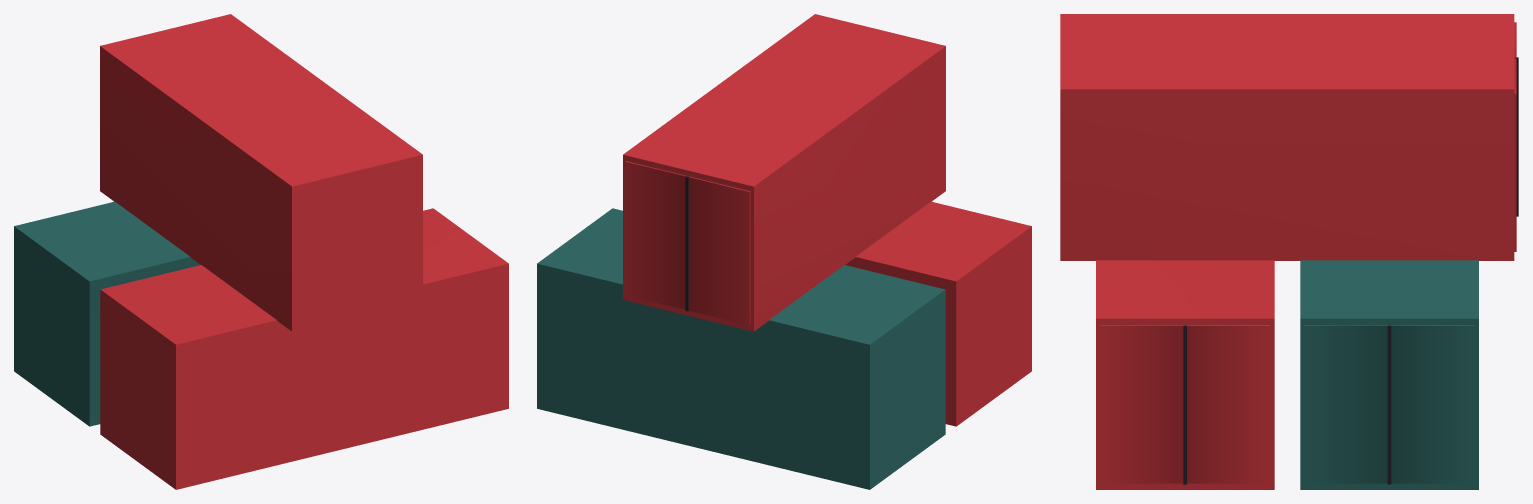
The picture shows the model from 3 angles, left to right: view 1: azimuth 30°, elevation 25°; view 2: azimuth 150°, elevation 25°; view 3: azimuth 270°, elevation 25°; orthographic projection. The views are drawn at different scales.
Visible parts, largest first — view 1: body_pal_survivorRed, body_pal_backpackTeal; view 2: body_pal_survivorRed, body_pal_backpackTeal, body_pal_uiDark; view 3: body_pal_survivorRed, body_pal_backpackTeal, body_pal_uiDark.
Boxes of the visible parts, box(x1,y1,x2,y2) form: body_pal_survivorRed: box(100, 14, 508, 489); body_pal_backpackTeal: box(14, 201, 200, 426); body_pal_survivorRed: box(623, 14, 1031, 426); body_pal_backpackTeal: box(537, 208, 945, 489); body_pal_uiDark: box(685, 176, 688, 311); body_pal_survivorRed: box(1060, 14, 1516, 489); body_pal_backpackTeal: box(1300, 260, 1478, 489); body_pal_uiDark: box(1183, 57, 1518, 484).
Size of the model in its own units: 6.06 by 4.99 by 6.06.
